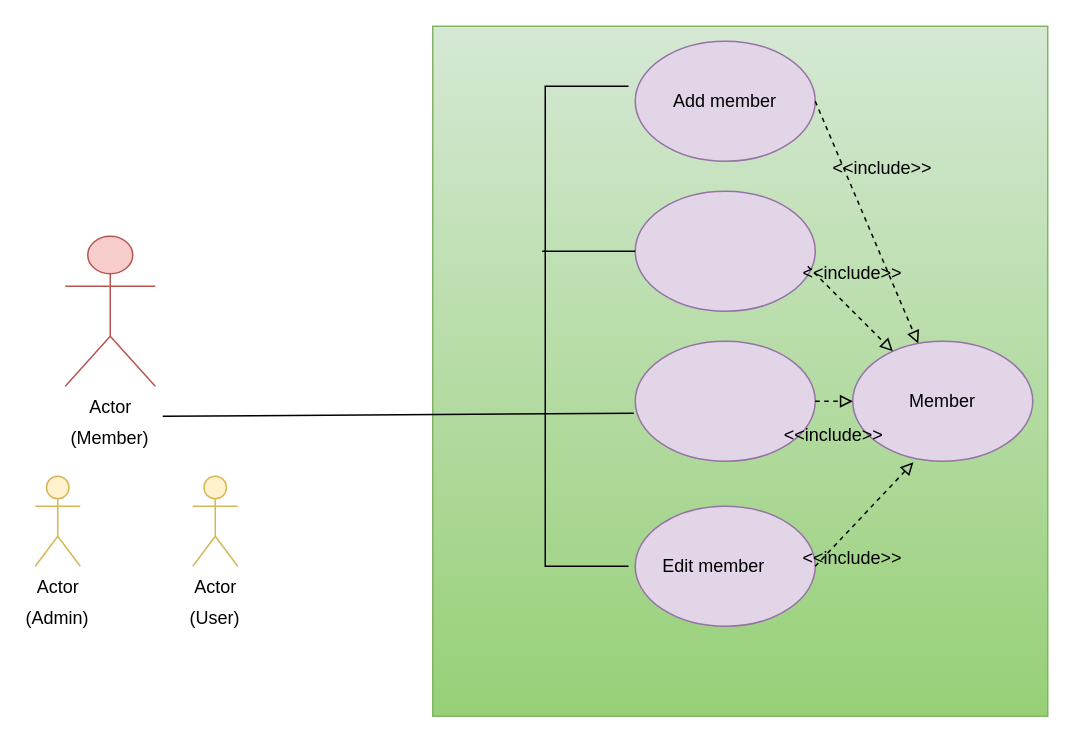
The diagram is 1074 pixels wide and 743 high, and some of its shapes have lost their labels. The box of each missing label's shape, as (x1, y1, x2, y2) in pixels:
Delete member: (634, 340, 815, 461)
Display member: (634, 190, 815, 311)
